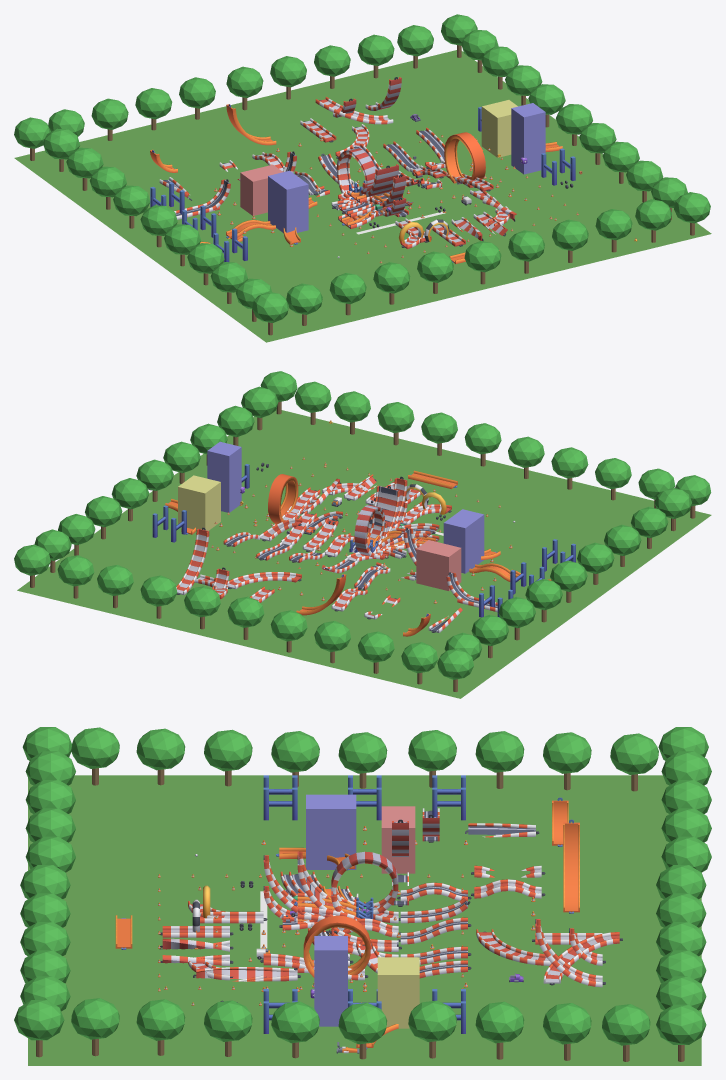
File: toy-car-racing.glb
3 views of the same model, one above another, from view 1: azimuth 30°, elevation 25°; view 2: azimuth 150°, elevation 25°; view 3: azimuth 270°, elevation 25° (orthographic). The views are drawn at different scales.
Visible parts, largest first — view 1: Ground_Plane.001, track-striped-narrow-corner-small, Building_1, Building_3, Building_4, Building_2, track-narrow-looping, Tree_12_foliage.002, Tree_14_foliage.004, Tree_15_foliage.005, Tree_15_foliage.002, Tree_15_foliage.004 (+40 smaller); view 2: Ground_Plane.001, track-striped-narrow-corner-small, Building_4, Building_1, Building_2, Building_3, track-narrow-looping, track-striped-narrow-straight-bend-large, track-road-narrow-looping, Tree_13_foliage, Tree_14_foliage.001, Tree_13_foliage.001 (+39 smaller); view 3: Ground_Plane.001, track-striped-narrow-corner-small, Building_1, Building_3, Building_4, Tree_15_foliage.002, Tree_15_foliage.003, Building_2, Tree_14_foliage.006, Tree_12_foliage.008, Tree_15_foliage.006, Tree_13_foliage.005 (+54 smaller).
Boxes of the visible parts, box(x1,y1,x2,y2) form: Ground_Plane.001: box(14, 50, 711, 342); track-striped-narrow-corner-small: box(338, 160, 516, 248); Building_1: box(268, 170, 308, 232); Building_3: box(511, 103, 545, 174); Building_4: box(481, 100, 517, 157); Building_2: box(240, 164, 282, 215); track-narrow-looping: box(444, 132, 485, 183); Tree_12_foliage.002: box(252, 291, 288, 322); Tree_14_foliage.004: box(135, 88, 172, 119); Tree_15_foliage.005: box(357, 34, 394, 65); Tree_15_foliage.002: box(674, 192, 710, 223); Tree_15_foliage.004: box(179, 77, 215, 108); Ground_Plane.001: box(17, 409, 711, 698); track-striped-narrow-corner-small: box(259, 474, 451, 561); Building_4: box(178, 475, 220, 530); Building_1: box(443, 509, 484, 573); Building_2: box(416, 540, 461, 590); Building_3: box(207, 441, 241, 512); track-narrow-looping: box(268, 474, 298, 523); track-striped-narrow-straight-bend-large: box(176, 527, 209, 594); track-road-narrow-looping: box(354, 504, 384, 557); Tree_13_foliage: box(421, 412, 457, 443); Tree_14_foliage.001: box(551, 447, 588, 478); Tree_13_foliage.001: box(595, 458, 631, 489); Ground_Plane.001: box(28, 775, 701, 1065); track-striped-narrow-corner-small: box(159, 855, 401, 981); Building_1: box(306, 794, 356, 869); Building_3: box(314, 936, 347, 1026); Building_4: box(377, 957, 419, 1028); Tree_15_foliage.002: box(14, 1000, 64, 1040); Tree_15_foliage.003: box(656, 1004, 706, 1044); Building_2: box(381, 806, 415, 873); Tree_14_foliage.006: box(543, 1003, 591, 1044); Tree_12_foliage.008: box(71, 998, 119, 1039); Tree_15_foliage.006: box(602, 1004, 650, 1045); Tree_13_foliage.005: box(204, 1000, 252, 1041).
Size of the model in its own units: 41.91 by 6 by 41.43.
243 materials, 157 textured.
